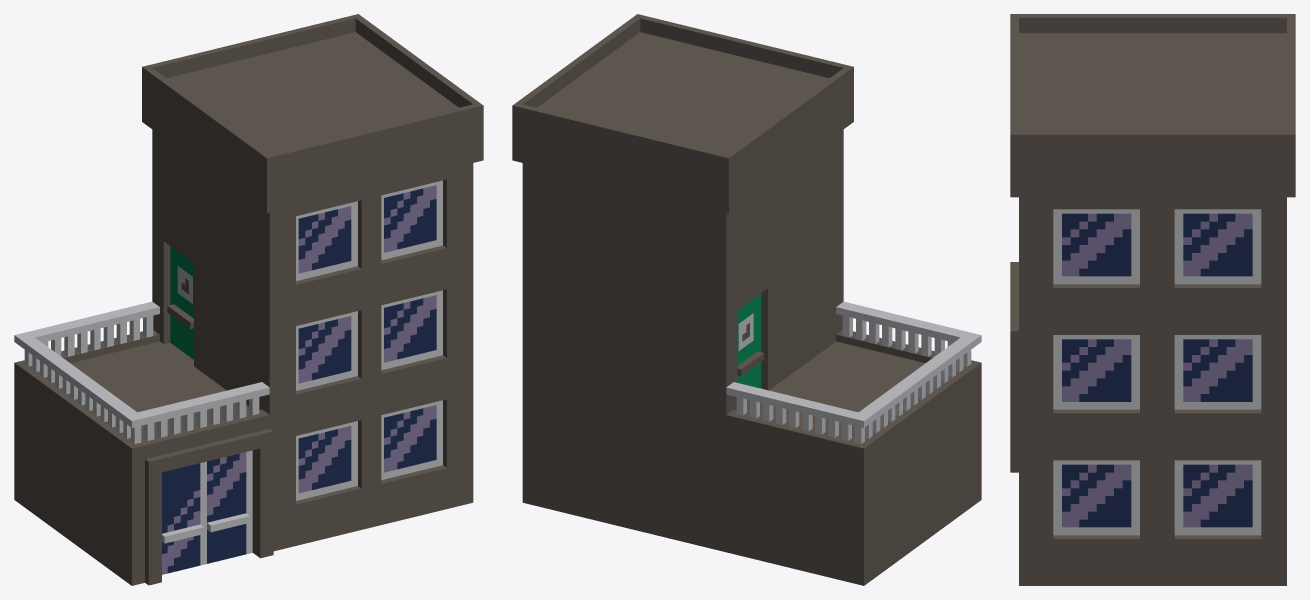
The model's file is office_b.obj.
3 views of the same model, side by side, from view 1: azimuth 30°, elevation 25°; view 2: azimuth 150°, elevation 25°; view 3: azimuth 270°, elevation 25° (orthographic). The views are drawn at different scales.
Size of the model in its own units: 5.3 by 5.8 by 3.3.
Materials: 1 (1 with a texture image).
